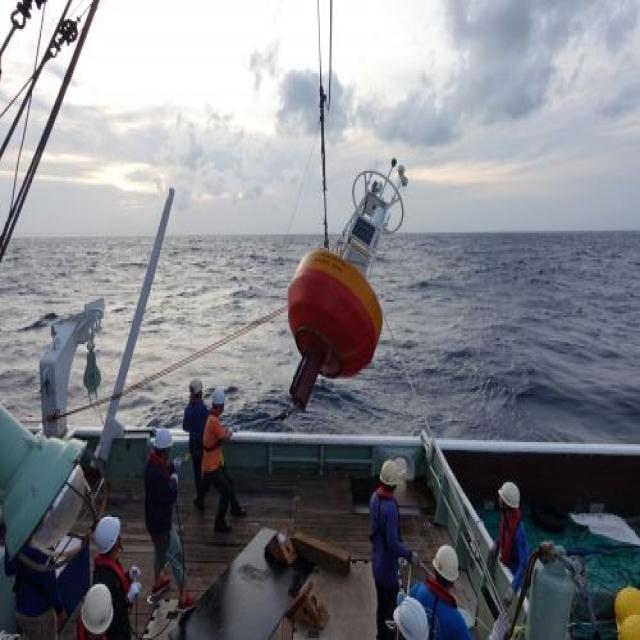buoy: (285, 151, 415, 407)
